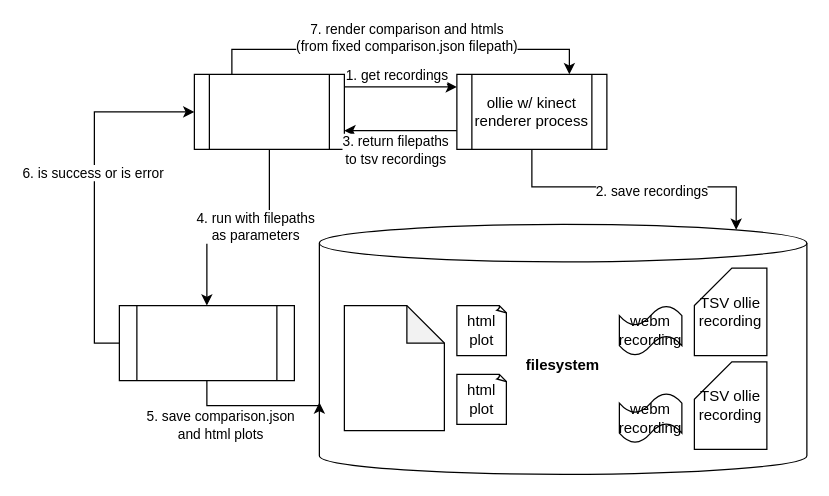
The diagram is 829 pixels wide and 496 high, and some of its shapes have lost their labels. Each missing label, with the centre of its shape:
JSON comparison of these two ollies: the point at 393,367
ollie w/ kinect main process: the point at 268,111
processing_app .py/.exe: the point at 206,342
